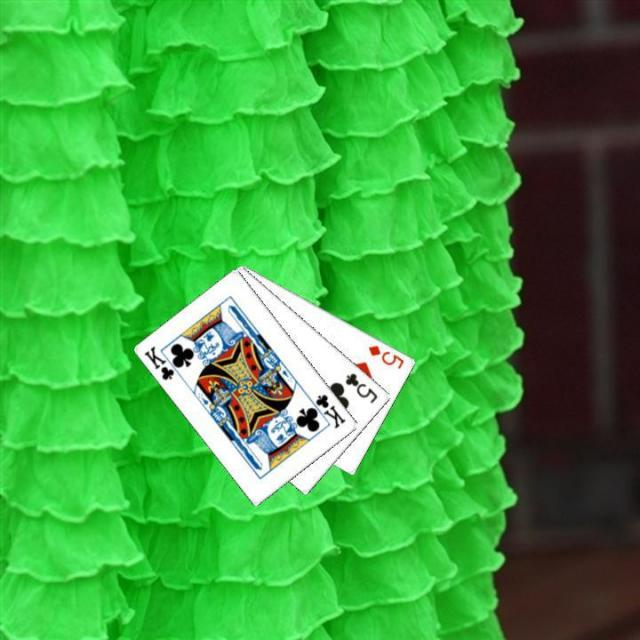5C: (342, 369, 381, 405)
5D: (365, 341, 407, 371)
KC: (140, 342, 184, 382), (305, 390, 347, 430)
